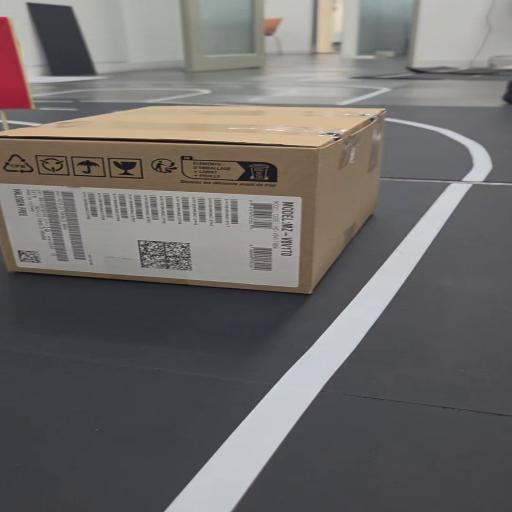Box: (0, 108, 384, 302)
